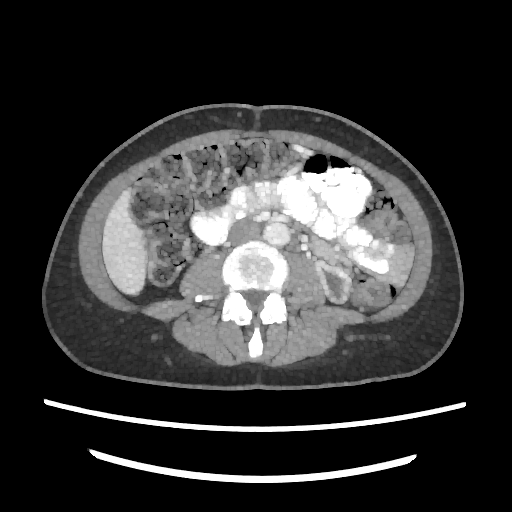Lesion: (320, 263, 349, 301)
